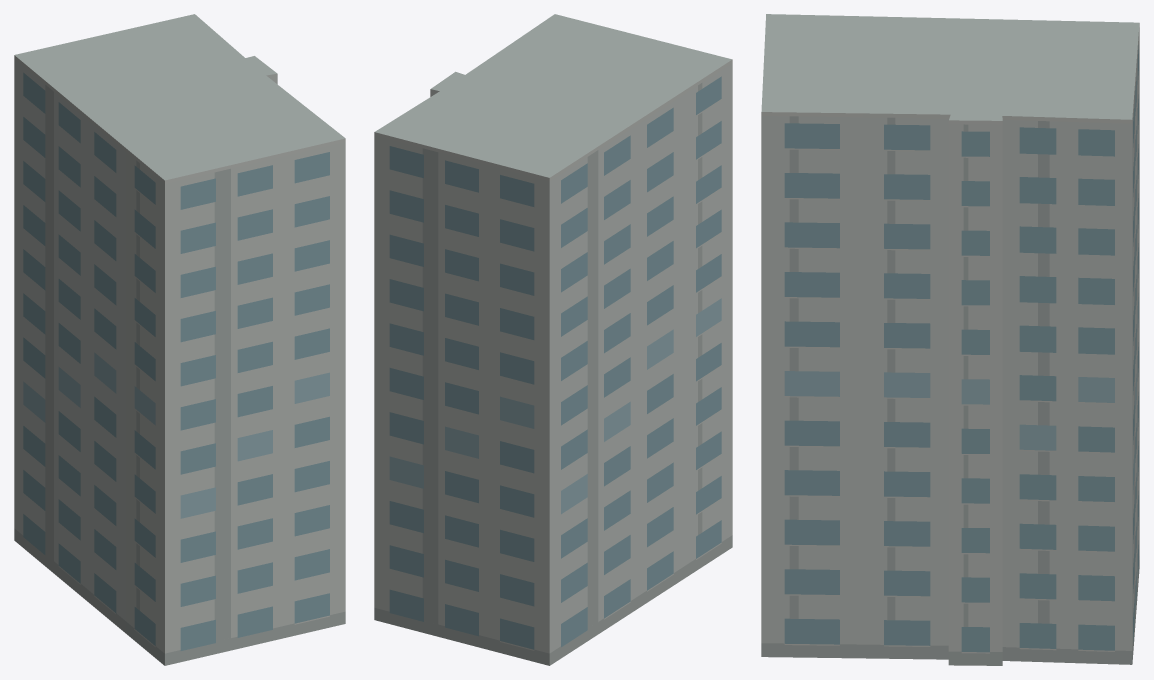
The model's file is survey-upis-32651330.glb.
3 views of the same model, side by side, from view 1: azimuth 30°, elevation 25°; view 2: azimuth 150°, elevation 25°; view 3: azimuth 270°, elevation 25° (orthographic). The views are drawn at different scales.
Visible parts, largest first — view 1: survey-upis-32651330.tmp; view 2: survey-upis-32651330.tmp; view 3: survey-upis-32651330.tmp.
Part boxes in pixels (left/top/right/bottom): survey-upis-32651330.tmp: left=14, top=14, right=345, bottom=665; survey-upis-32651330.tmp: left=374, top=14, right=732, bottom=665; survey-upis-32651330.tmp: left=761, top=14, right=1139, bottom=665.
Bounding box in the file's own units: 14.12 × 33.55 × 21.1.
